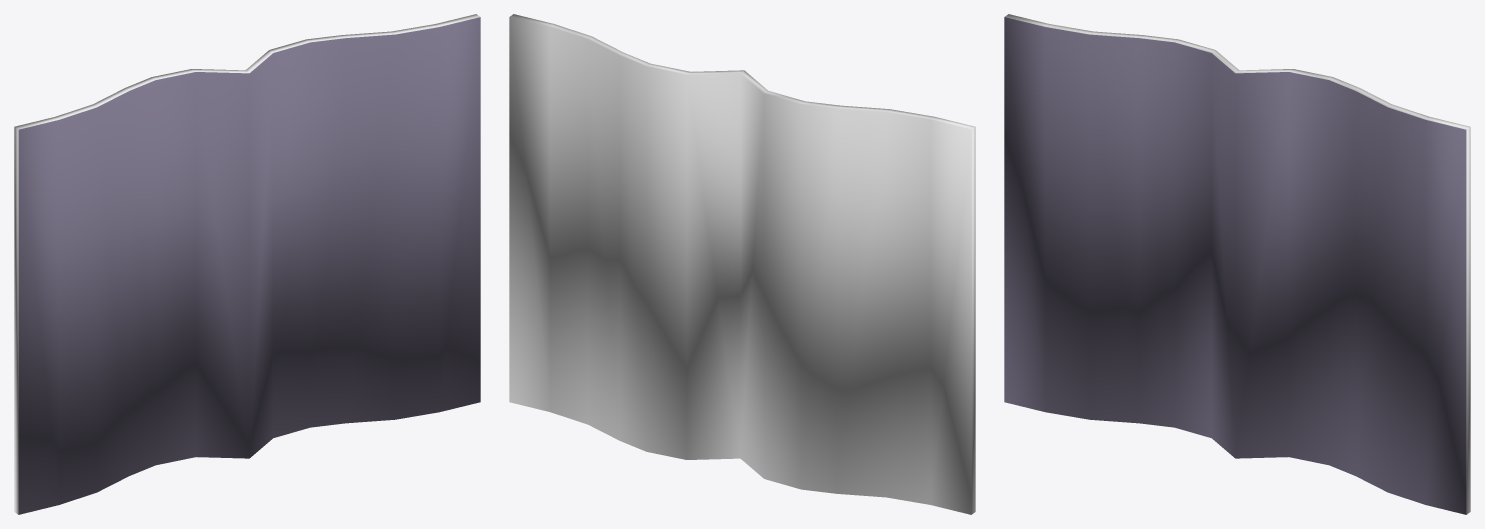
Rendered from Sears Catalog.fbx.
3 renders of one model, left to right at view 1: azimuth 30°, elevation 25°; view 2: azimuth 150°, elevation 25°; view 3: azimuth 330°, elevation 25°, orthographic.
Visible parts, largest first — view 1: Catalog; view 2: Catalog; view 3: Catalog.
Part boxes in pixels (x1,y1,x2,y2): Catalog: (14,14,480,514); Catalog: (509,14,975,514); Catalog: (1004,14,1470,514).
Bounding box in the file's own units: 251 × 200 × 19.45.
